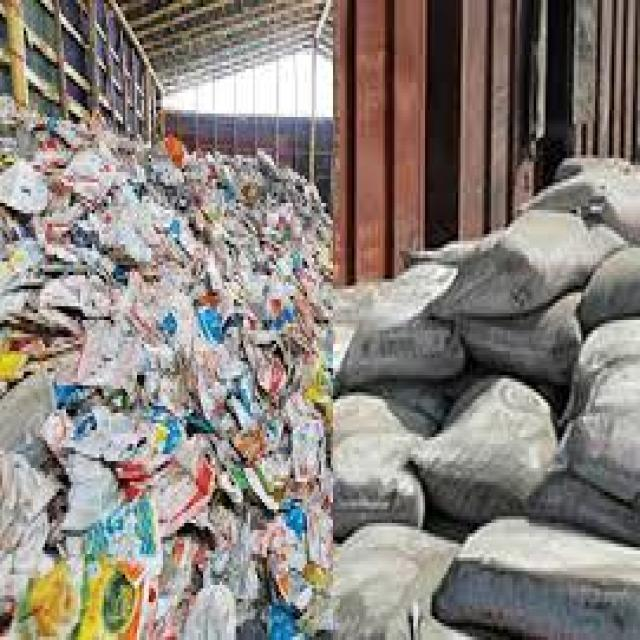heap: (8, 138, 324, 640)
